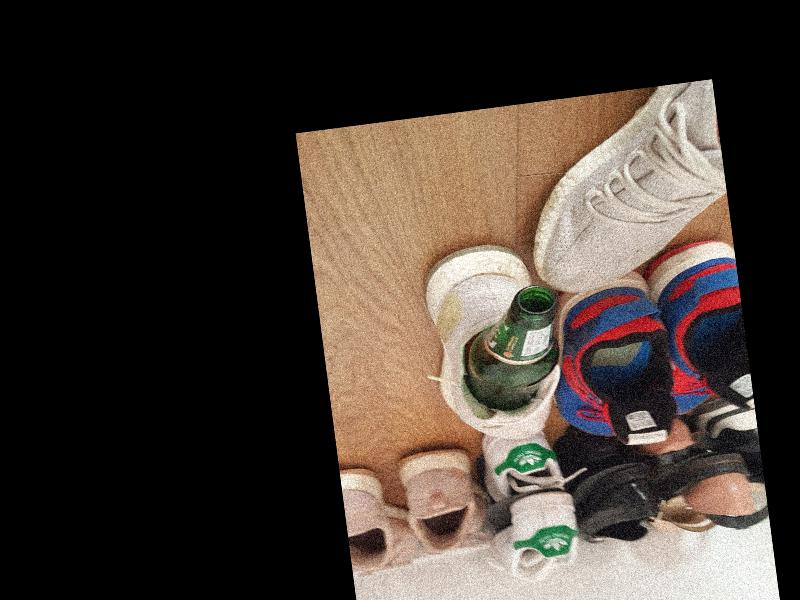Beer: (457, 283, 569, 413)
